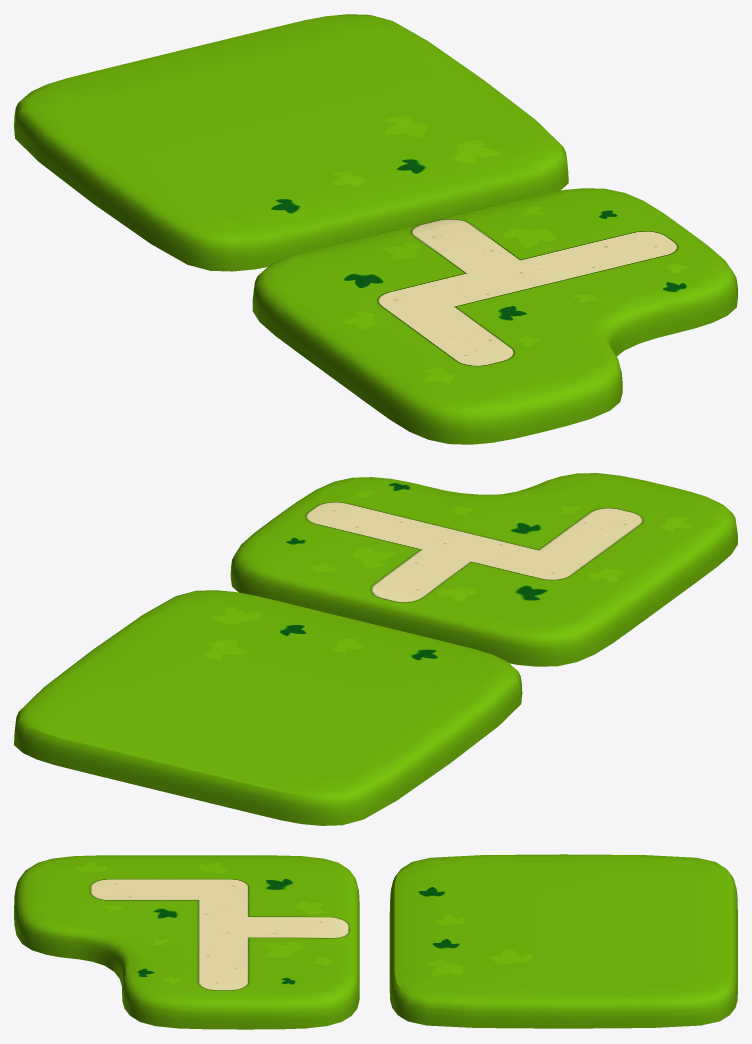
Rendered from finalmap.fbx.
The picture shows the model from 3 angles, top to bottom: view 1: azimuth 30°, elevation 25°; view 2: azimuth 150°, elevation 25°; view 3: azimuth 270°, elevation 25°; orthographic projection. The views are drawn at different scales.
Parts seen in each view (by area): view 1: Plane; view 2: Plane; view 3: Plane.
Boxes of the visible parts, box(x1,y1,x2,y2) form: Plane: box(14, 14, 737, 444); Plane: box(14, 473, 737, 825); Plane: box(14, 854, 737, 1029).
Size of the model in its own units: 9491 by 766 by 18857.
1 material, 1 textured.
